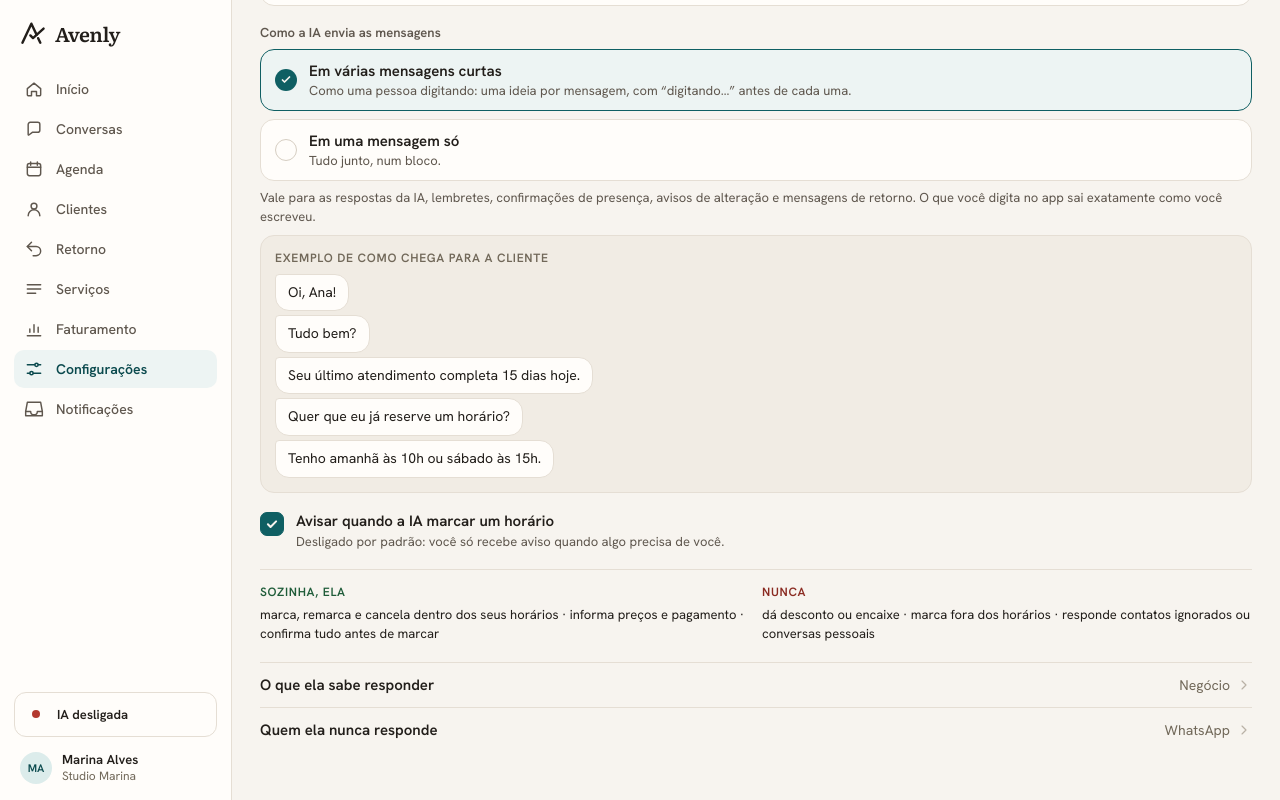
Scenario: Goal104 prova 1: IA1 em /configuracoes/ia › o interruptor reflete a preferência ligada e a falha de gravação mostra erro
(page scrolled)
Click the checkbox labelled "Avisar quando a IA marcar um horário": {"x": 272, "y": 524} [260,512,284,536]
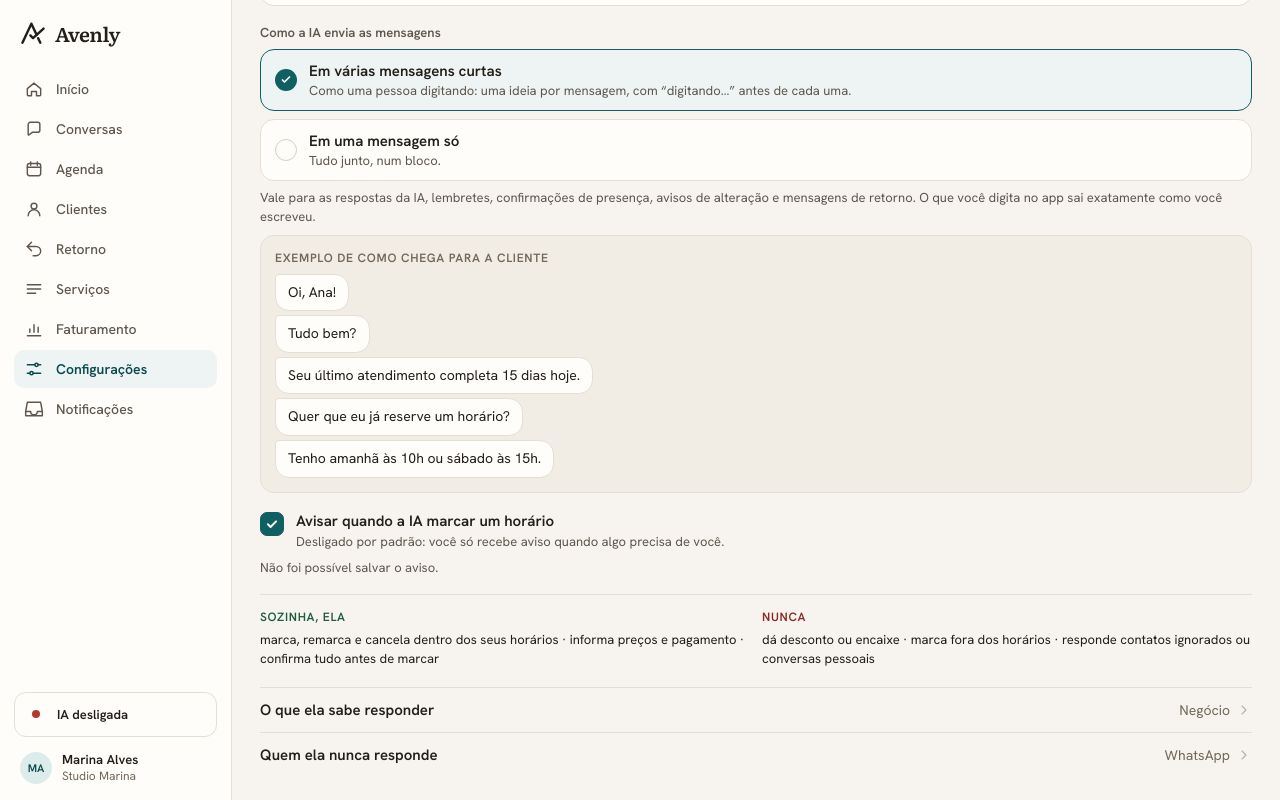
Now the text "Não foi possível salvar o aviso." is shown, box [260,559,438,576]
